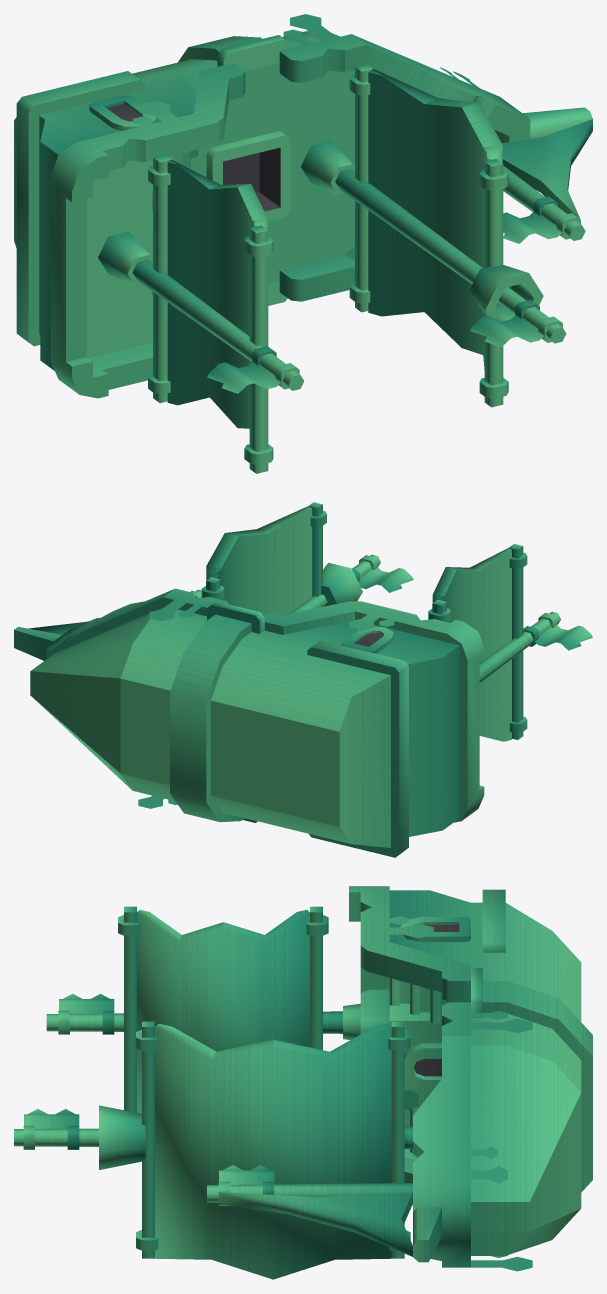
Rendered from kenney-ship-small-ghost.glb.
3 renders of one model, top to bottom at view 1: azimuth 30°, elevation 25°; view 2: azimuth 150°, elevation 25°; view 3: azimuth 270°, elevation 25°, orthographic. The views are drawn at different scales.
Parts seen in each view (by area): view 1: ship-small-ghost, sail-a, sail-b, flag-b, flag-c, flag-a; view 2: ship-small-ghost, sail-b, sail-a, flag-c, flag-b; view 3: ship-small-ghost, sail-a, sail-b, flag-c, flag-b, flag-a.
Boxes of the visible parts, x1,y1,x2,y2 form: ship-small-ghost: (14,14,592,398); sail-a: (349,64,508,407); sail-b: (148,154,273,473); flag-b: (470,299,562,347); flag-c: (207,346,299,393); flag-a: (503,196,580,243); ship-small-ghost: (14,554,560,857); sail-b: (428,544,527,741); sail-a: (201,502,326,614); flag-c: (523,612,592,650); flag-b: (352,555,413,592); ship-small-ghost: (14,886,592,1271); sail-a: (136,1021,410,1279); sail-b: (118,906,328,1113); flag-c: (58,993,114,1034); flag-b: (23,1109,79,1149); flag-a: (218,1165,274,1205).
Bounding box in the file's own units: 10.6 × 4.8 × 9.96.
Materials: 1 (1 with a texture image).
